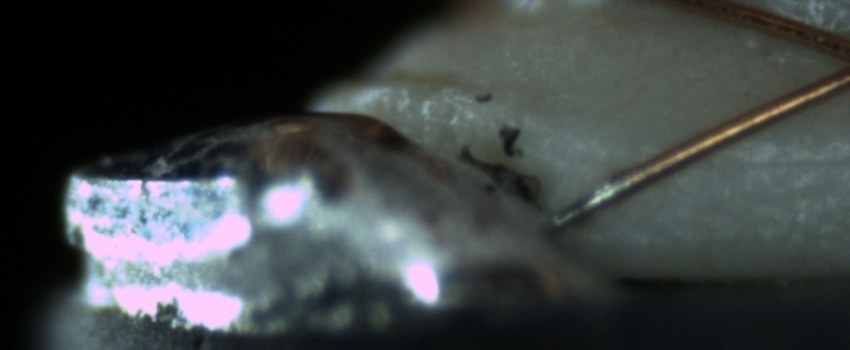CL: (809, 21, 850, 97)
DL: (701, 126, 850, 190)
TS: (548, 175, 627, 230)
